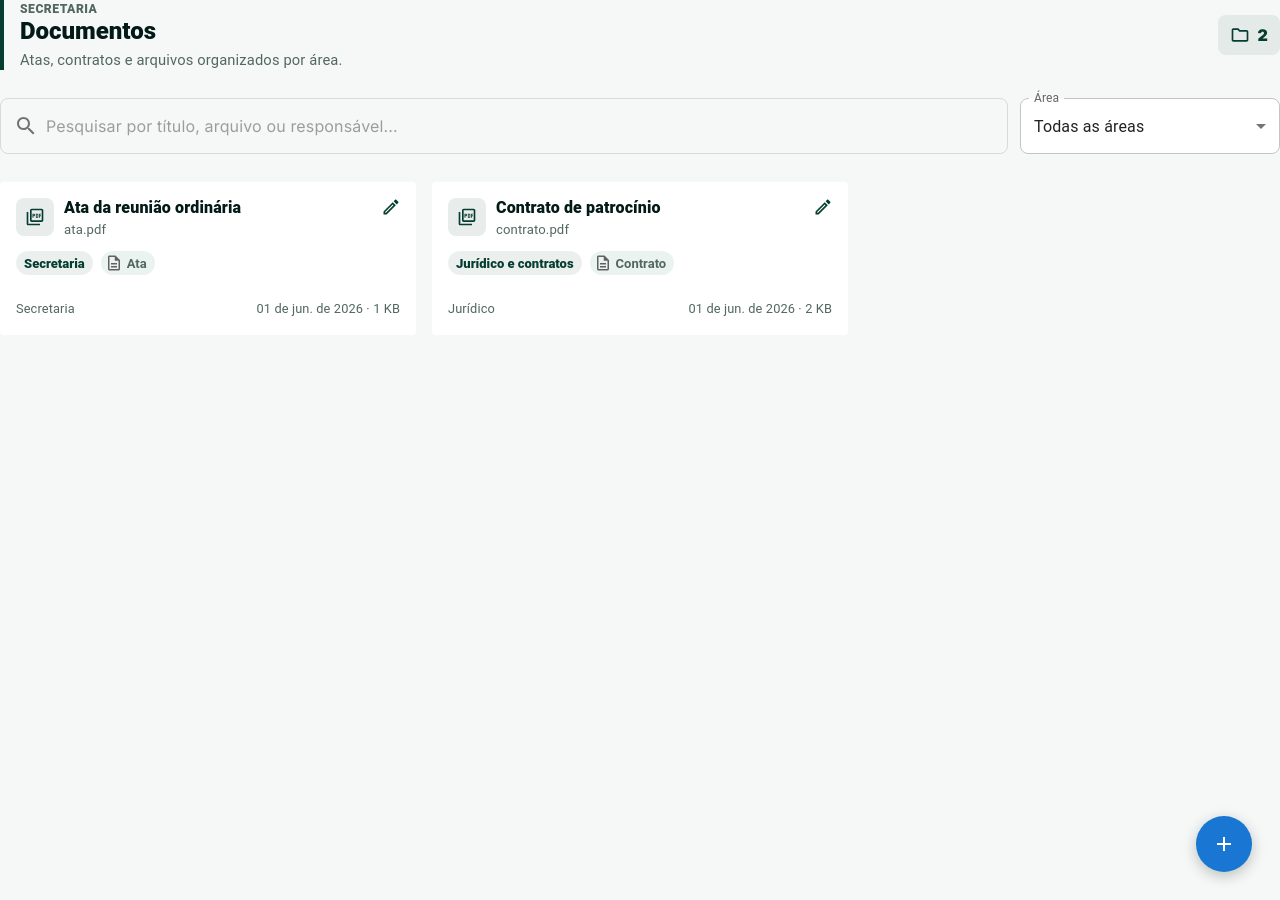
it: <DocumentosSecretariaView /> › cria e edita documento localmente
Expected: the text "Ata da reunião ordinária" is shown, [64,198,241,218]
Note: Abre o modal diretamente pelo botão de edição para validar a mutação local.
Click the button named "Editar documento Ata da reunião ordinária" at [391, 208], box [376,192,406,222]
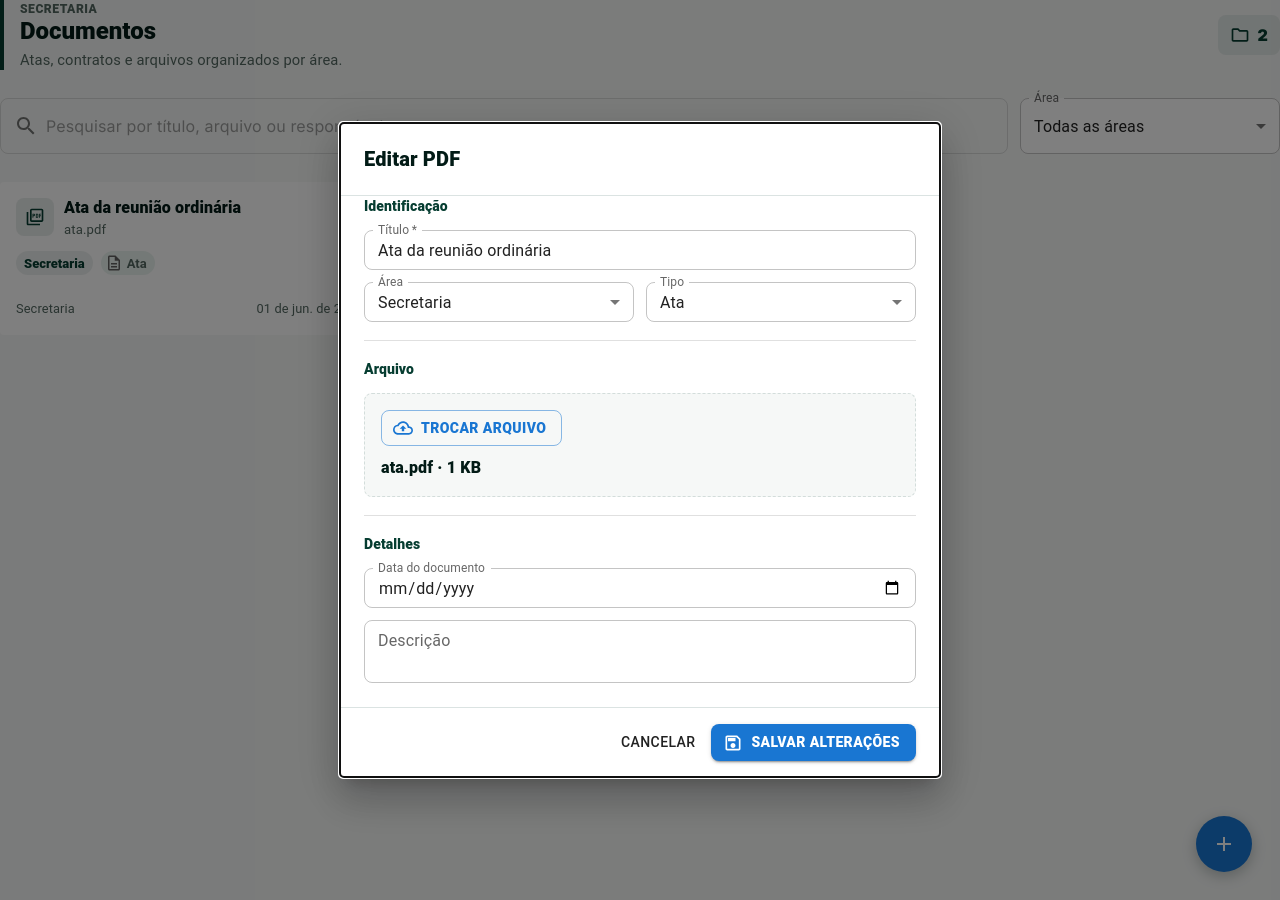
Replace the text in the field labelled "Título *" with "Ata revisada" at [640, 250], box [364,230,916,270]
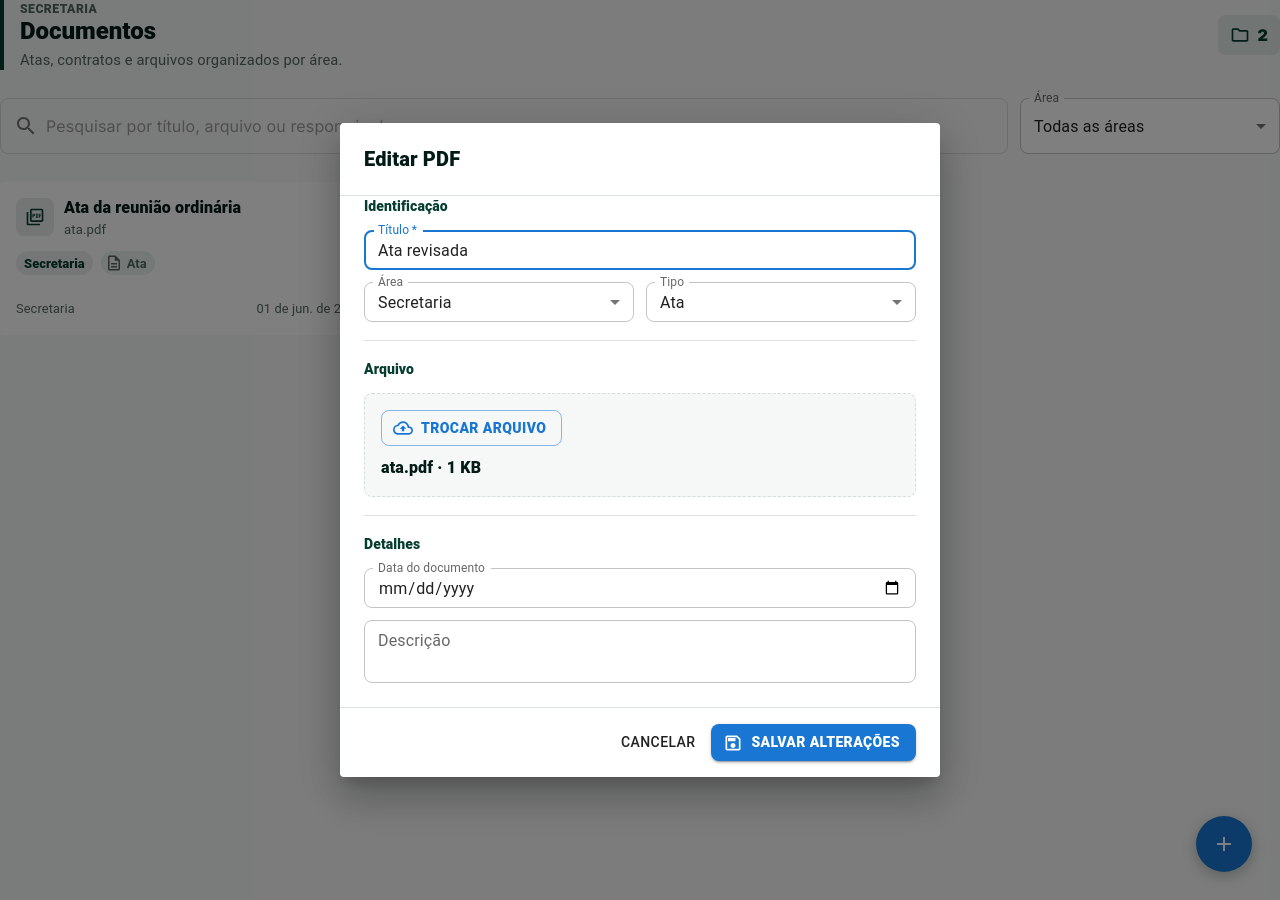
Click the button "Salvar alterações" at [814, 743], box [712,724,916,761]
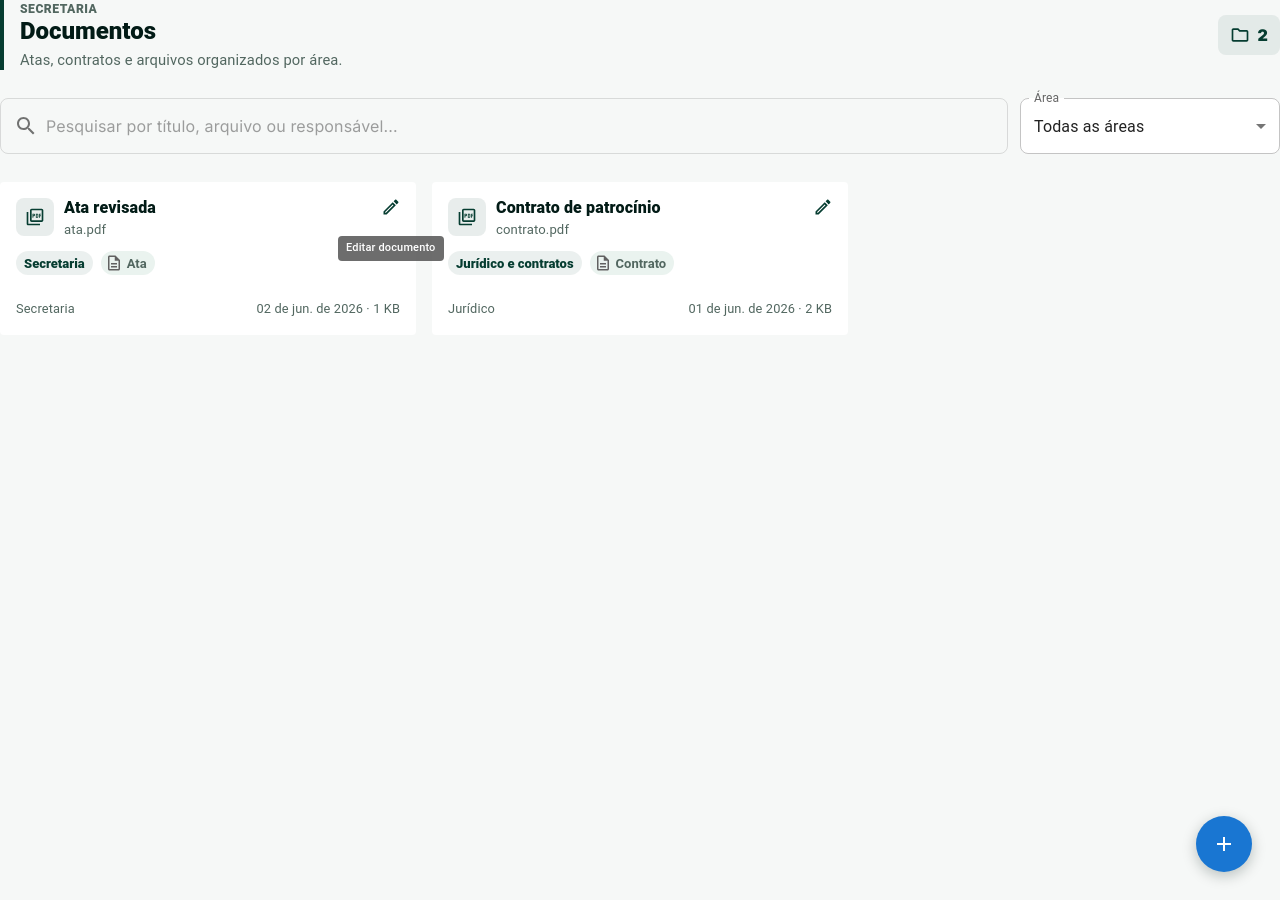
Now the text "Ata revisada" is shown, box [64,198,156,218]
